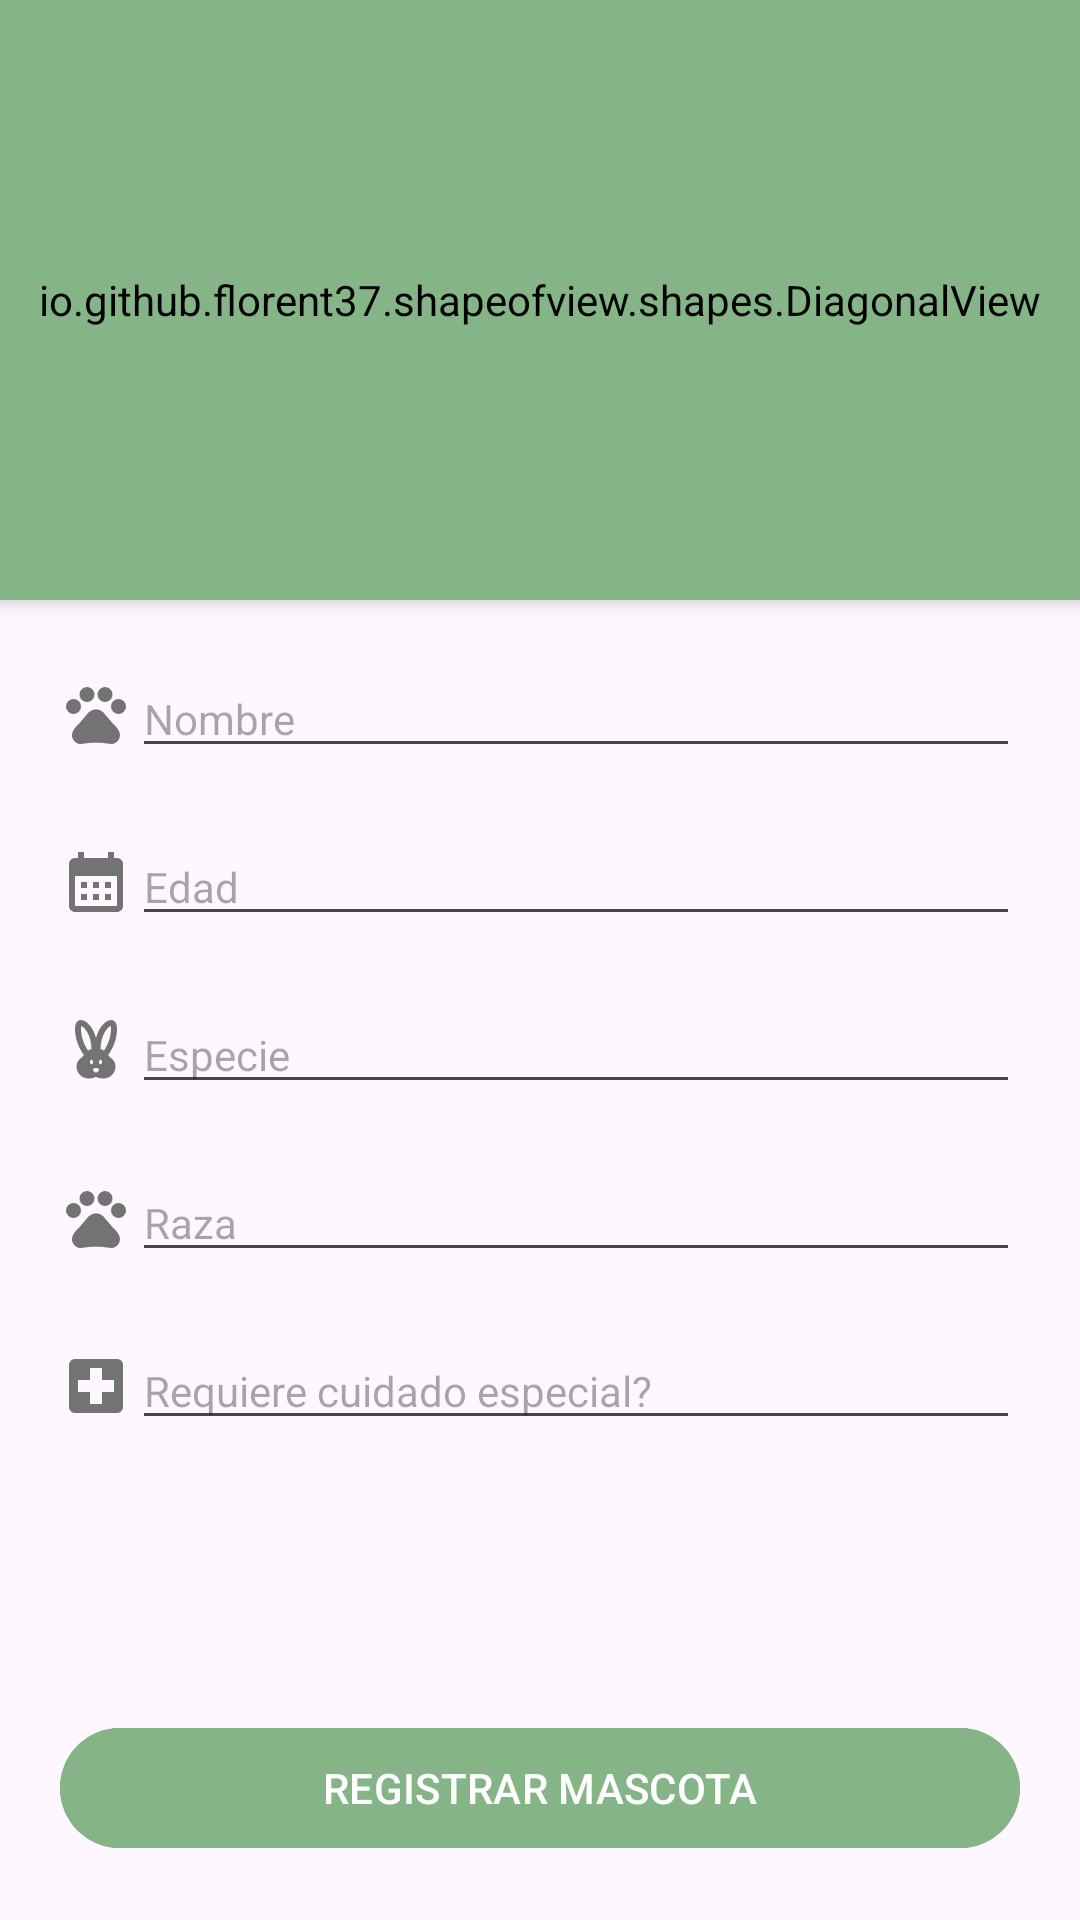

Icon click points for this 1080×1920 phone screenshot, format (x,y):
calendar: (96,882)
tratamiento: (96,1386)
